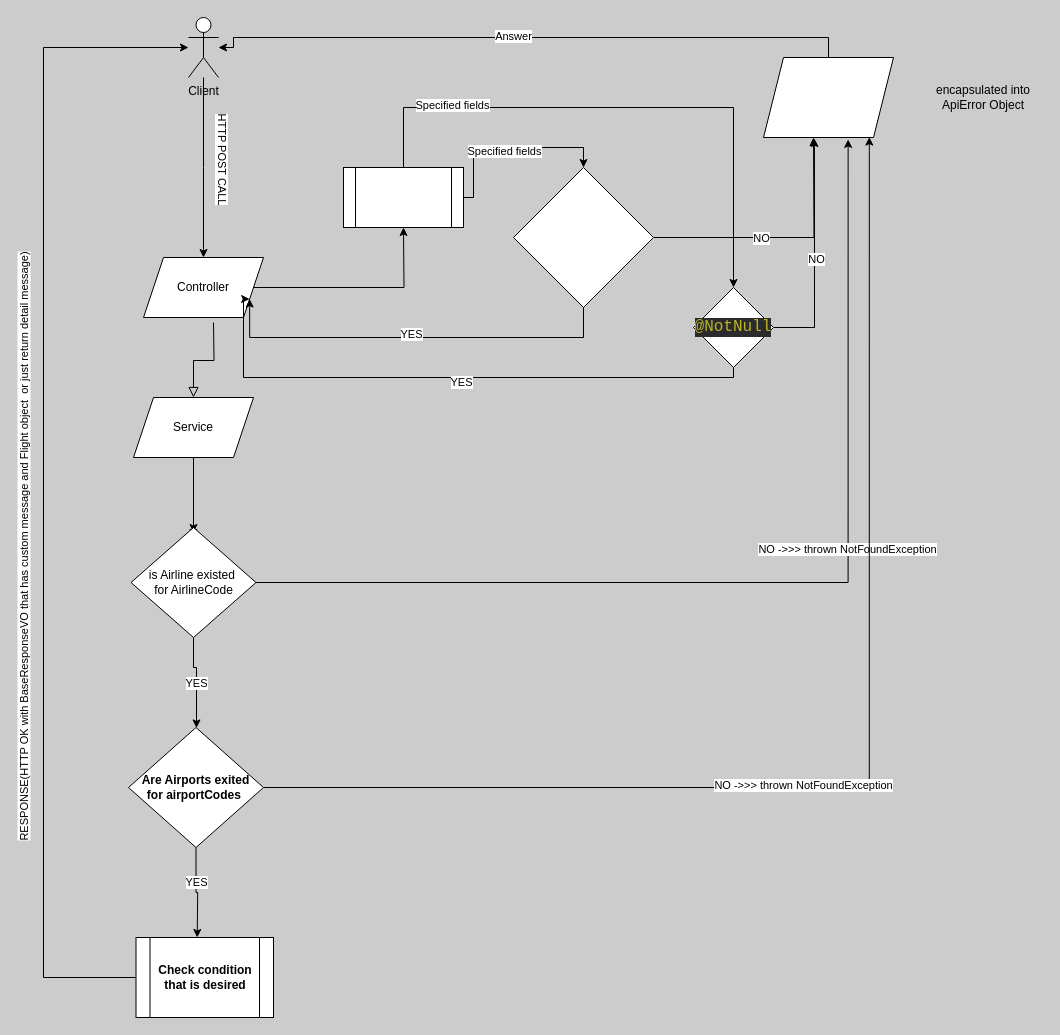
The diagram is 1060 pixels wide and 1035 high, and some of its shapes have lost their labels. Each missing label, with the box of its shape:
@Size (min = 3 , max = 3): (512, 166, 654, 308)
RestExceptionHandler: (762, 56, 894, 138)
Validation Layer (javax.Validation): (342, 166, 464, 228)
